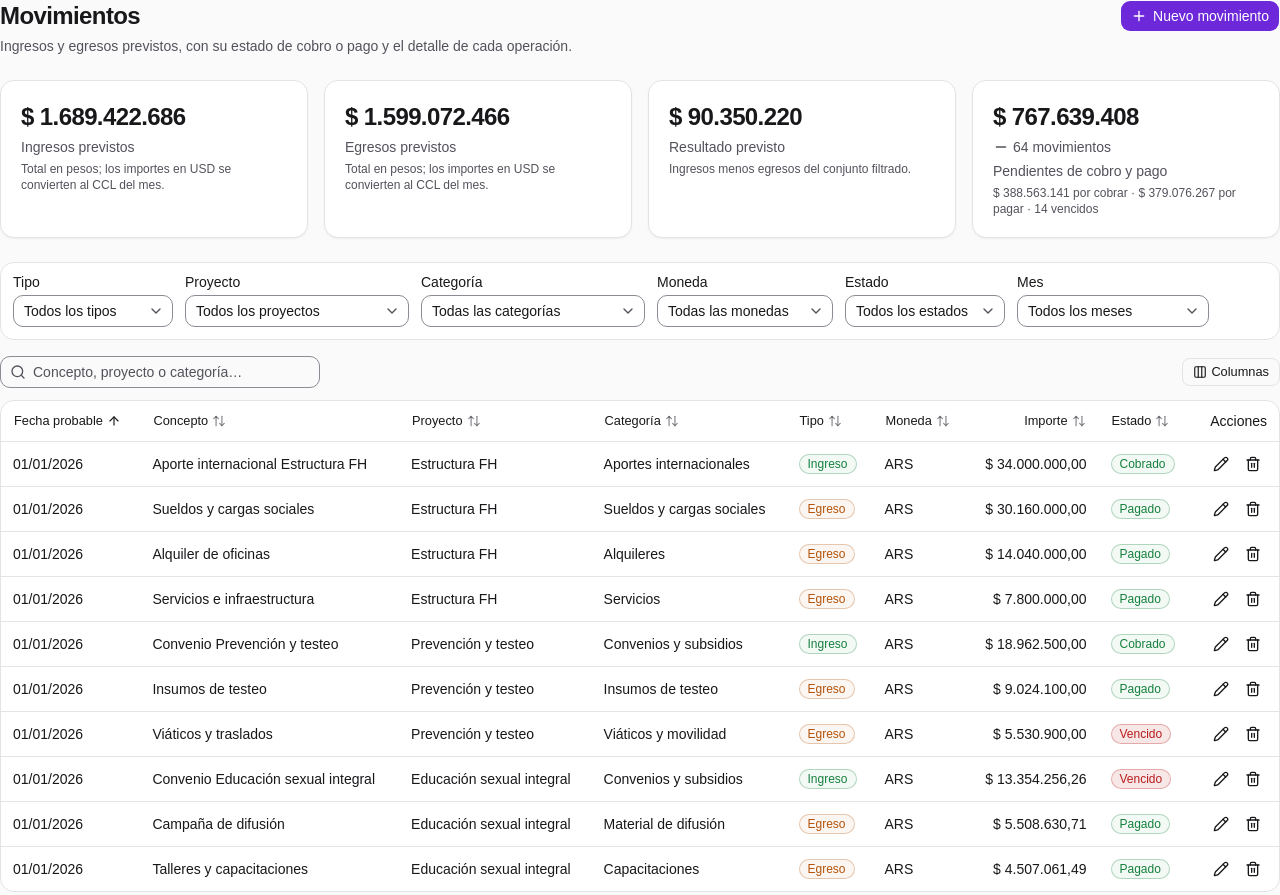
Test: MovimientosPage › busca movimientos por concepto en la API mock
The width and height of the screenshot is (1280, 895).
Expected: the text "Sueldos y cargas sociales" is shown, [152,500,314,516]
Type "alquiler" into the search field named "Buscar movimientos". click: (160, 372)
box: [0,356,320,388]
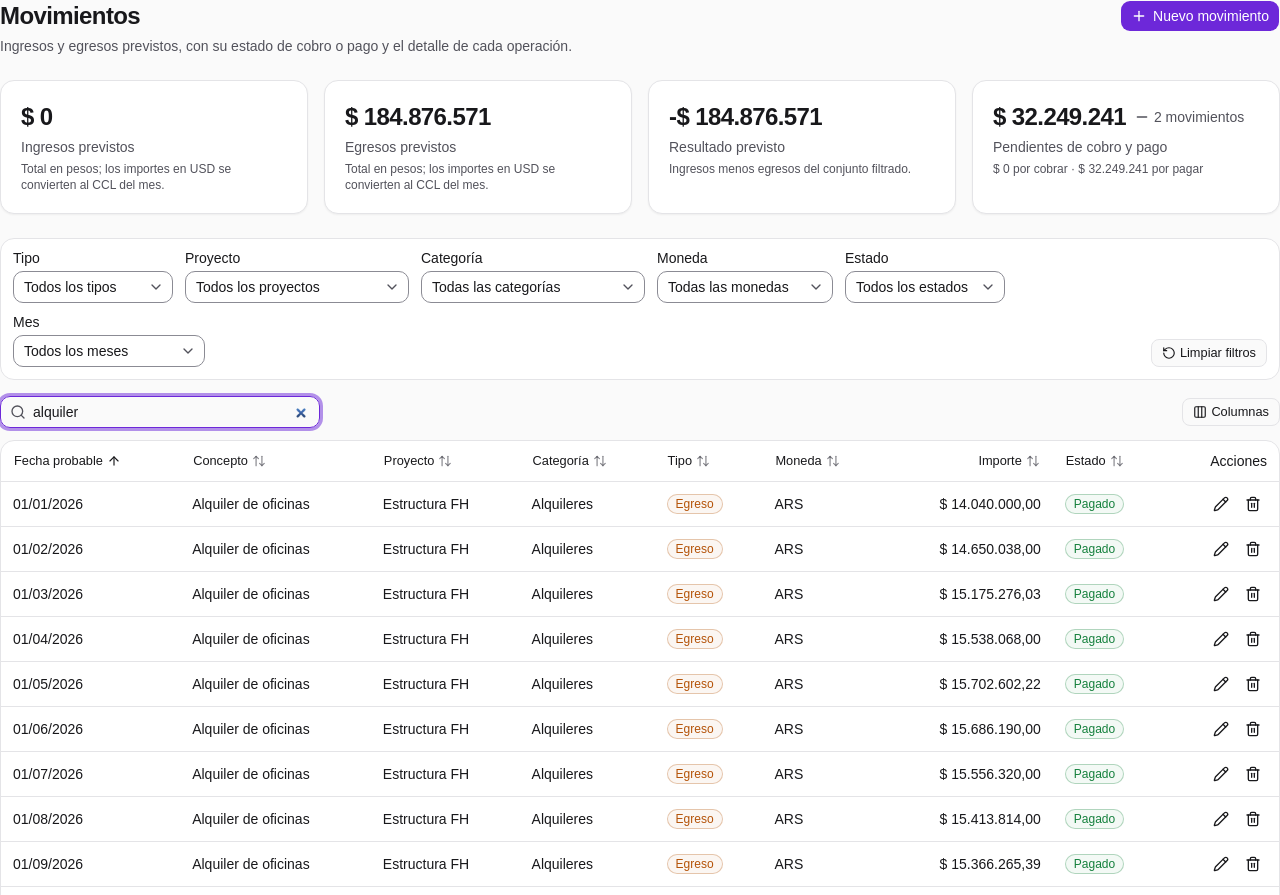
Expected: the text "Alquiler de oficinas" next to "01/01/2026" is shown, [192,496,310,512]
Expected: the text "Sueldos y cargas sociales" is not shown
